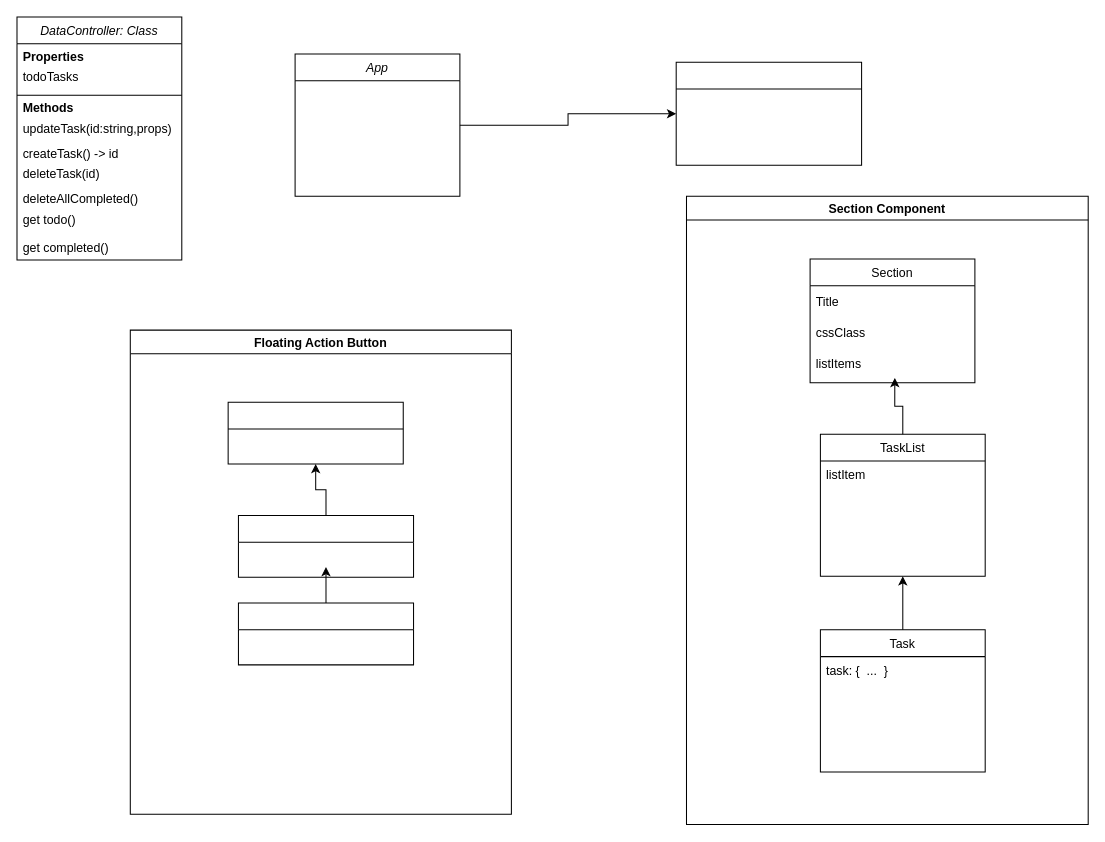
This 1105x842 diagram has some shape labels left out. The centre of each missing label's shape, as x and y in pixels:
"ActionButton" goes at pixel 315 432.
"ActionMenu" goes at pixel 325 545.
"Heade: Reactr" goes at pixel 768 113.
"MenuItem" goes at pixel 325 633.
